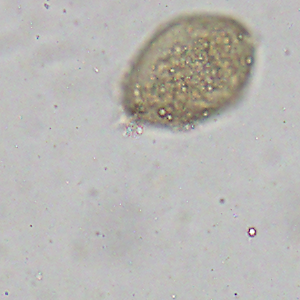Fasciola_hepatica_egg: (117, 8, 258, 131)
